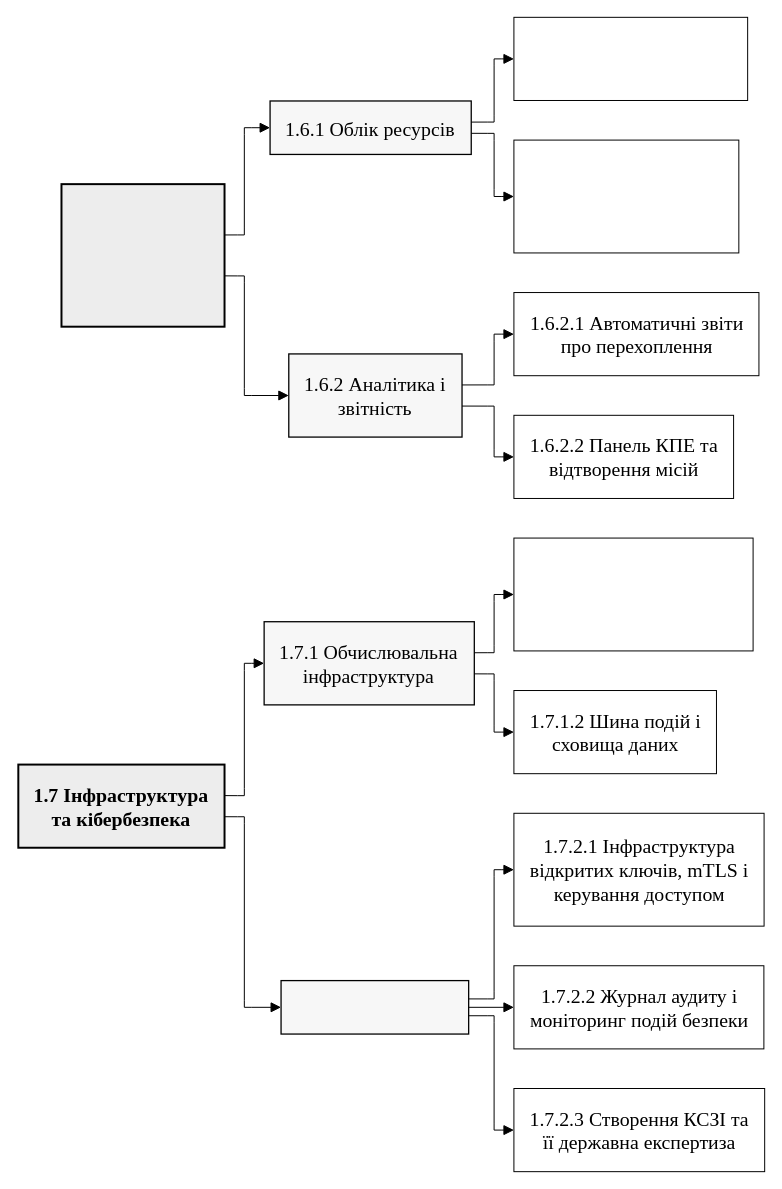
The diagram is 782 pixels wide and 1189 high, and some of its shapes have lost their labels. Here are the shapes that lost their labels. From the top down, the centre of each, then its label:
At pixel 630 58: "1.6.1.1 Облік готовності розрахунків".
At pixel 626 196: "1.6.1.2 Облік перехоплювачів, АКБ і запасів".
At pixel 142 255: "1.6 Підсистема ресурсів, аналітики та звітності".
At pixel 633 594: "1.7.1.1 Розгортання основного та резервного ЦОД".
At pixel 374 1007: "1.7.2 Кібербезпека".
